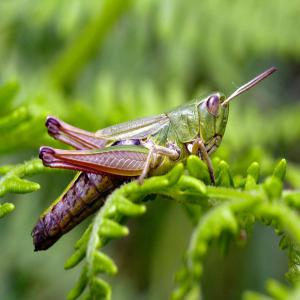locust: (34, 70, 262, 242)
